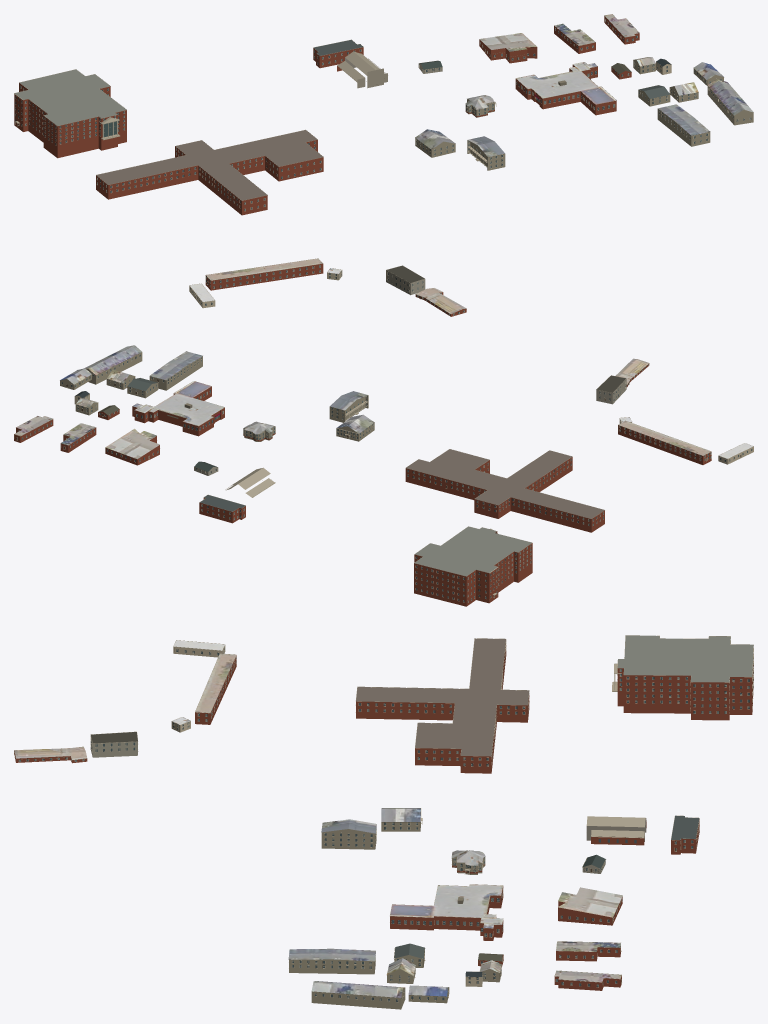
3 views of the same model, one above another, from view 1: azimuth 30°, elevation 25°; view 2: azimuth 150°, elevation 25°; view 3: azimuth 270°, elevation 25° (orthographic). The views are drawn at different scales.
Visible parts, largest first — view 1: -2_0_188827132_0, -2_0_318264455_2, -2_0_318874199_7; view 2: -2_0_188827132_0, -2_0_318264455_2, -2_0_318874199_7; view 3: -2_0_188827132_0, -2_0_318264455_2, -2_0_318874199_7, -2_0_617093821_41.
Boxes of the visible parts, x1,y1,x2,y2 form: -2_0_188827132_0: (14, 14, 751, 316); -2_0_318264455_2: (189, 14, 753, 313); -2_0_318874199_7: (386, 63, 442, 295); -2_0_188827132_0: (14, 354, 753, 606); -2_0_318264455_2: (14, 345, 752, 459); -2_0_318874199_7: (194, 379, 626, 475); -2_0_188827132_0: (14, 635, 753, 1002); -2_0_318264455_2: (14, 640, 622, 1009); -2_0_318874199_7: (90, 736, 605, 873); -2_0_617093821_41: (171, 645, 482, 986).
Bounding box in the file's own units: 504 × 28.44 × 439.
Materials: 18 (1 with a texture image).
